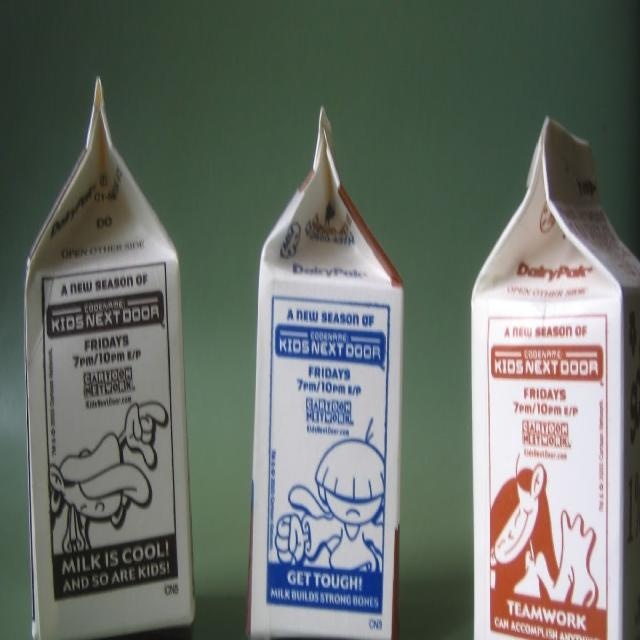cardboard: (25, 78, 194, 640), (468, 118, 640, 640), (251, 104, 398, 640)
